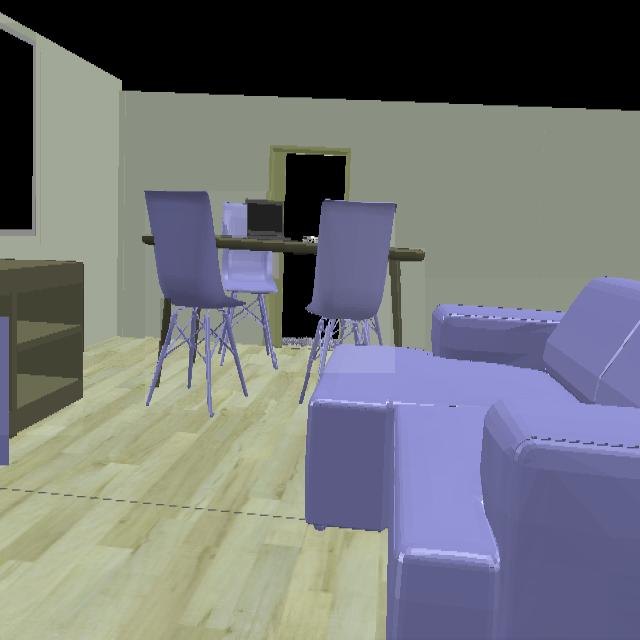book: (303, 235, 317, 243)
bookshelf: (0, 260, 83, 434)
chair: (145, 191, 274, 412), (308, 203, 395, 373), (226, 205, 249, 236)
laptop: (248, 202, 285, 241)
monitor: (0, 24, 36, 236)
sofa: (305, 278, 640, 637)
table: (390, 248, 425, 347), (217, 237, 318, 254), (161, 300, 171, 345), (142, 235, 155, 245)
